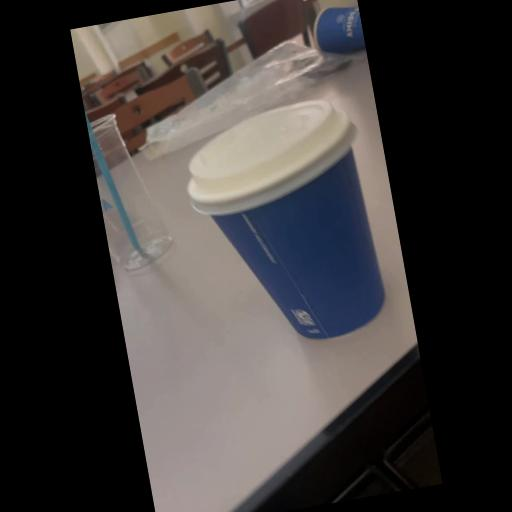lp_paper_cup: (170, 88, 404, 378), (305, 0, 367, 66)
lp_plastic_cup: (84, 102, 178, 280)
